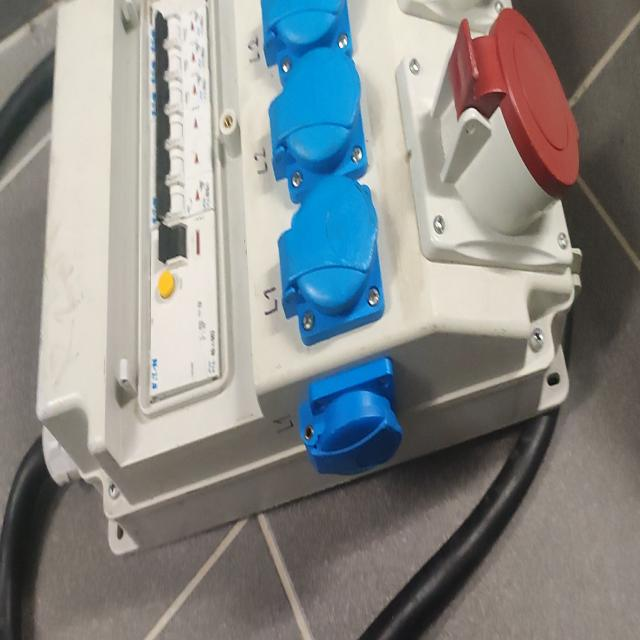400v socket: (395, 7, 579, 273)
house plug covered: (277, 175, 384, 346), (269, 46, 368, 200), (297, 357, 403, 477), (261, 0, 353, 89)
